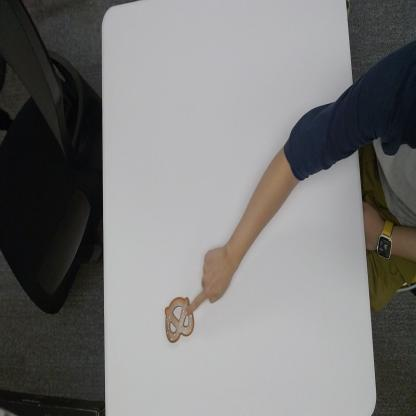Arm: (235, 65, 357, 262)
Hand: (188, 242, 235, 316)
Pretzel: (160, 292, 196, 345)
